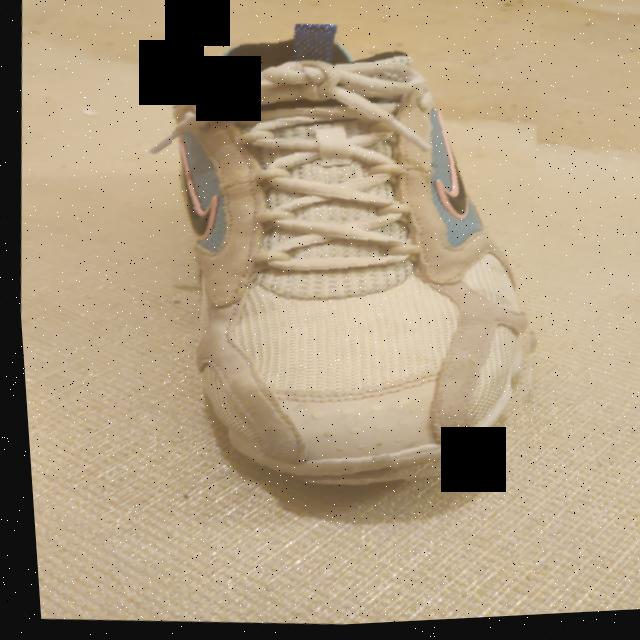shoe: (139, 8, 564, 512)
